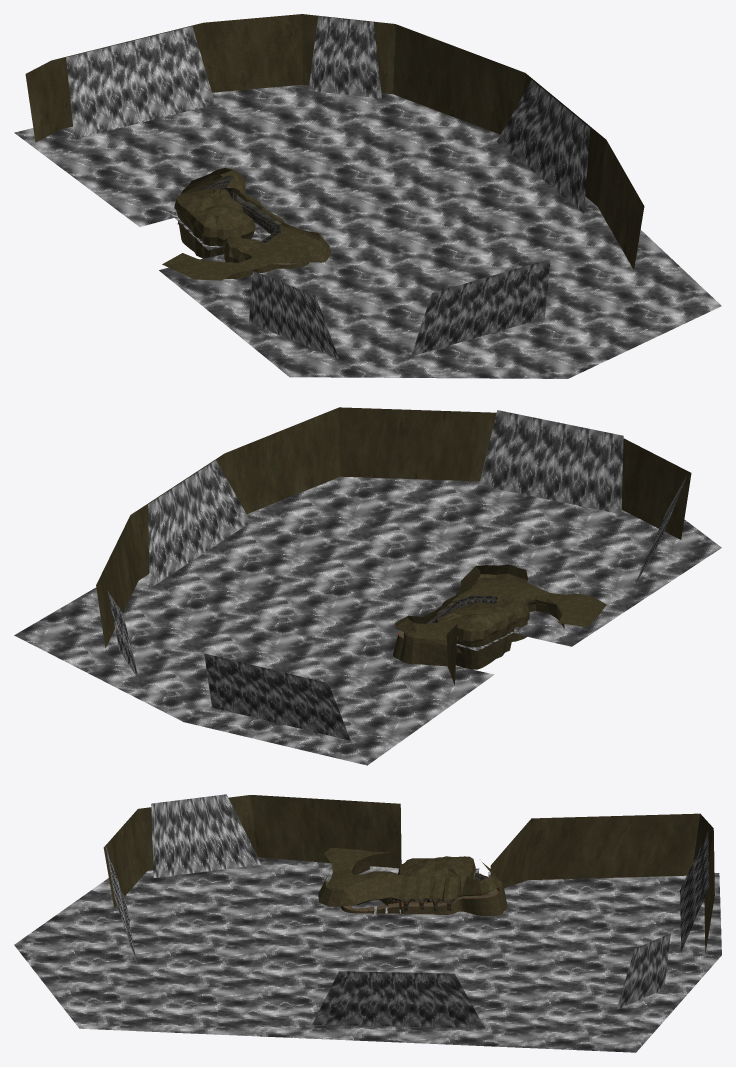
The picture shows the model from 3 angles, top to bottom: view 1: azimuth 30°, elevation 25°; view 2: azimuth 150°, elevation 25°; view 3: azimuth 270°, elevation 25°; orthographic projection. The views are drawn at different scales.
Parts seen in each view (by area): view 1: polygon6.029, polygon14.025, polygon7.023, polygon12.022; view 2: polygon6.029, polygon14.025, polygon7.023; view 3: polygon6.029, polygon14.025, polygon7.023, polygon13.025, polygon11.026.
Boxes of the visible parts, x1,y1,x2,y2 form: polygon6.029: [14, 84, 721, 378]; polygon14.025: [25, 14, 644, 280]; polygon7.023: [66, 16, 590, 358]; polygon12.022: [197, 175, 280, 242]; polygon6.029: [14, 476, 721, 765]; polygon14.025: [96, 407, 691, 685]; polygon7.023: [108, 410, 686, 740]; polygon6.029: [14, 857, 721, 1052]; polygon14.025: [103, 795, 714, 953]; polygon7.023: [105, 794, 709, 1028]; polygon13.025: [389, 872, 475, 911]; polygon11.026: [343, 889, 497, 910].
Size of the model in its own units: 217271 by 43322 by 326663.
Materials: 7 (7 with a texture image).
